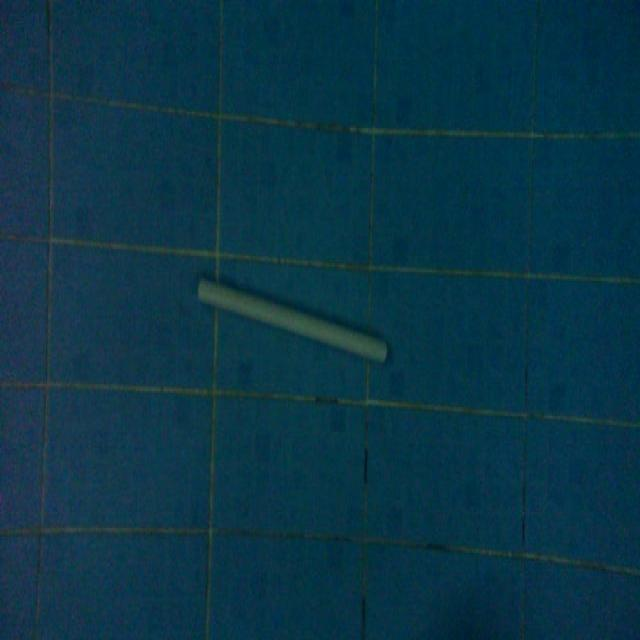Cube: (195, 270, 389, 370)
